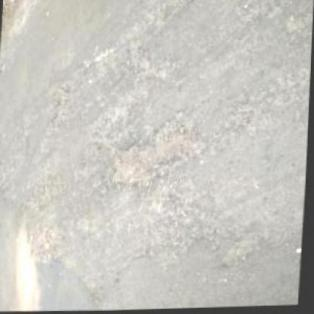Hueco: (106, 103, 203, 192)
